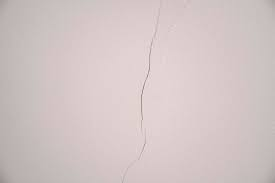crack: (119, 0, 157, 182)
